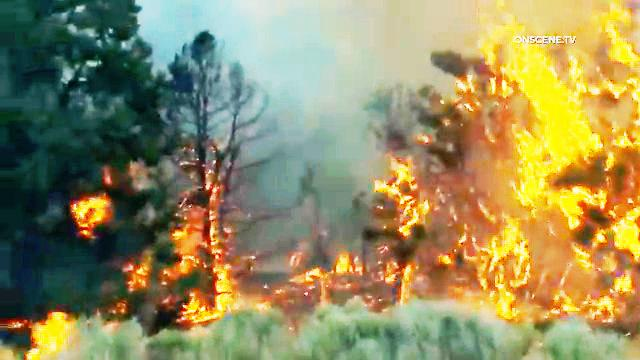fire: (471, 13, 640, 308), (32, 314, 89, 343)
smoke: (256, 6, 370, 150)
